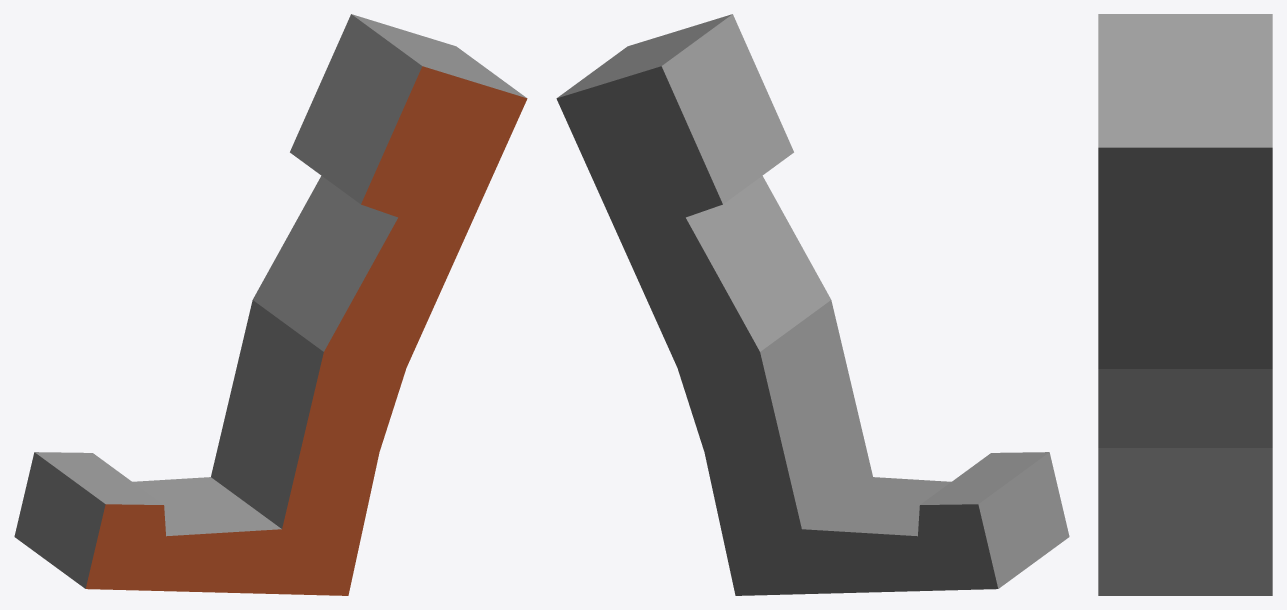
File: construction_0336_assumed_A_Casa_h6m.obj
3 renders of one model, left to right at view 1: azimuth 30°, elevation 25°; view 2: azimuth 150°, elevation 25°; view 3: azimuth 270°, elevation 25°, orthographic. The views are drawn at different scales.
Visible parts, largest first — view 1: construction_0336_assumed_A_Casa; view 2: construction_0336_assumed_A_Casa; view 3: construction_0336_assumed_A_Casa.
Part boxes in pixels (x1=…): construction_0336_assumed_A_Casa: x1=14, y1=14, x2=527, y2=595; construction_0336_assumed_A_Casa: x1=556, y1=14, x2=1069, y2=595; construction_0336_assumed_A_Casa: x1=1098, y1=14, x2=1272, y2=595.
Bounding box in the file's own units: 21.49 × 23.78 × 6.
